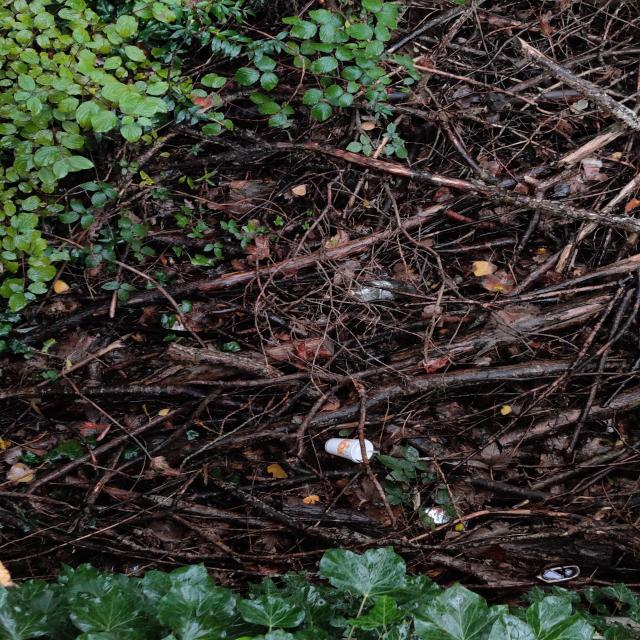litter: (344, 279, 423, 303), (325, 438, 374, 463), (424, 506, 470, 531), (536, 565, 580, 583), (166, 169, 174, 176), (365, 450, 380, 453)
